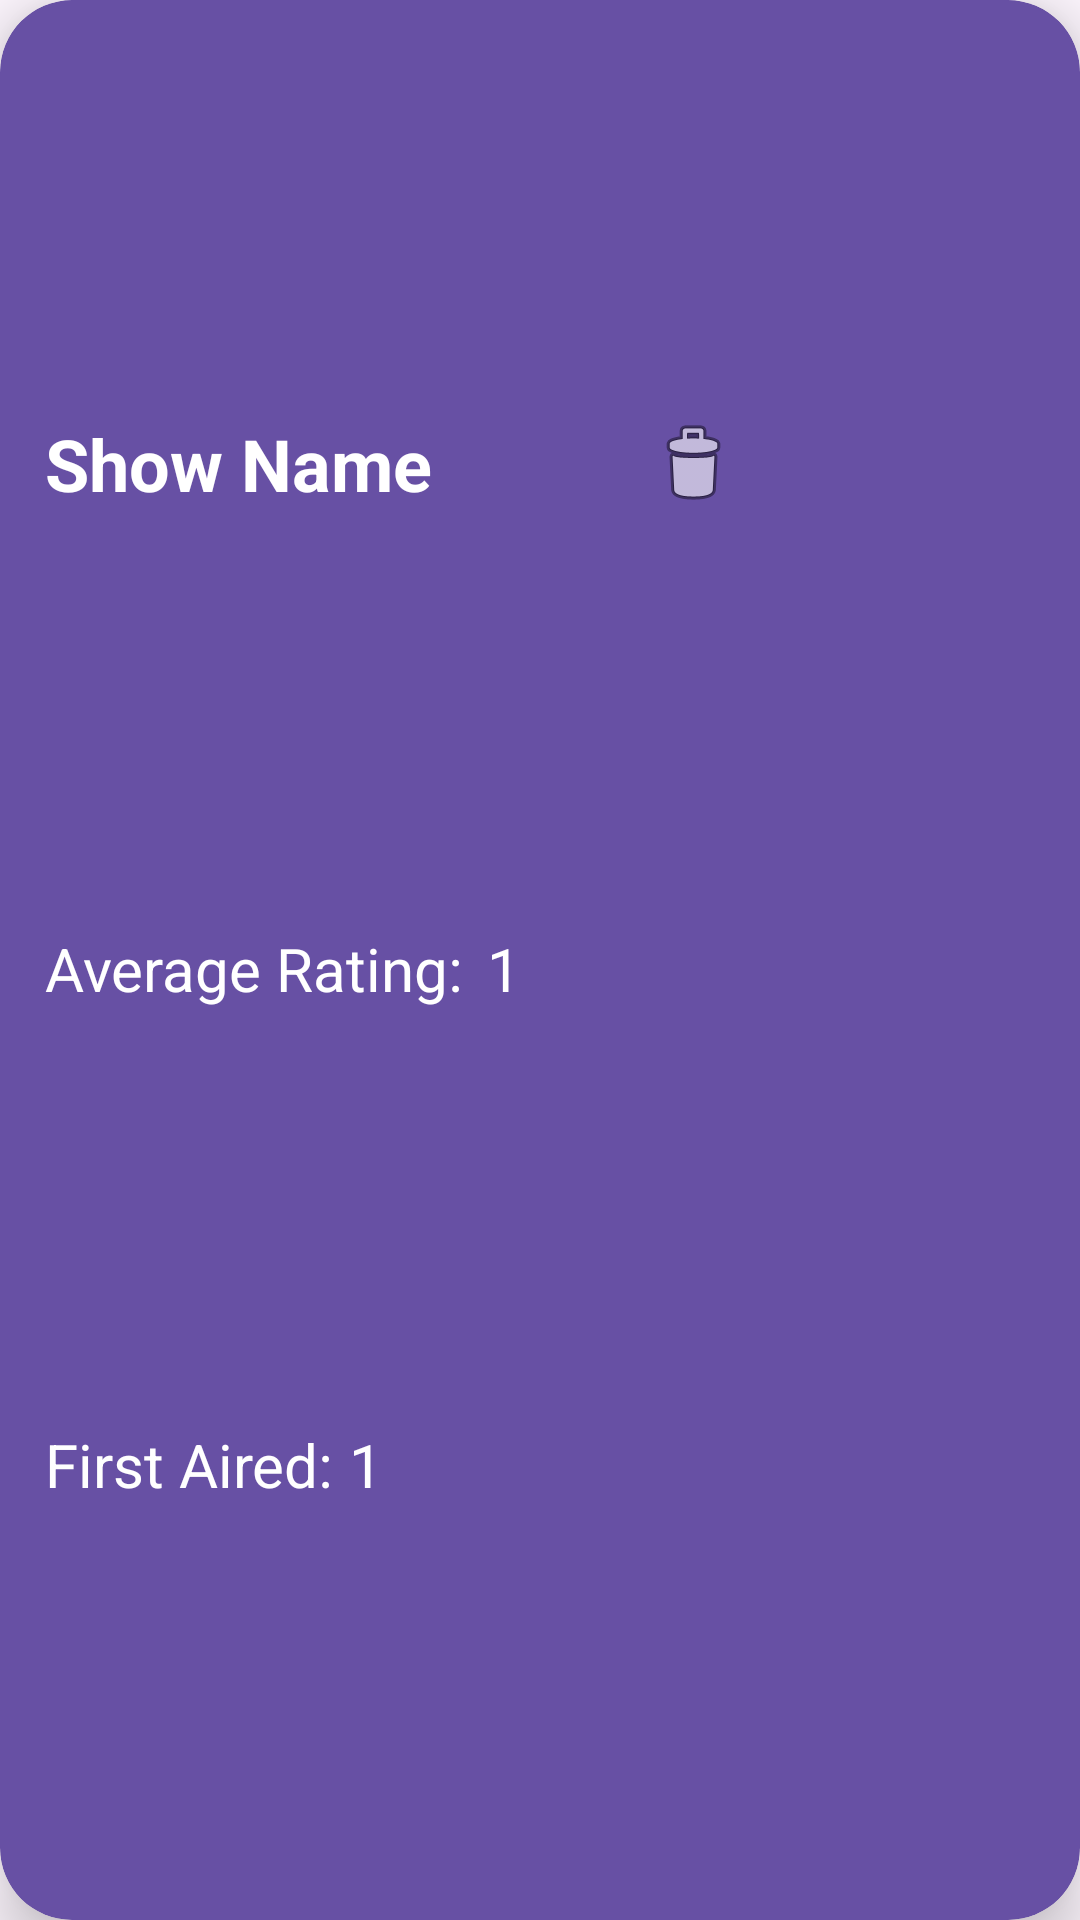

Icons on this 1080px x 1920px Android screen, each with its box as (x1, y1, x2, y2):
delete: (667, 425, 720, 500)
